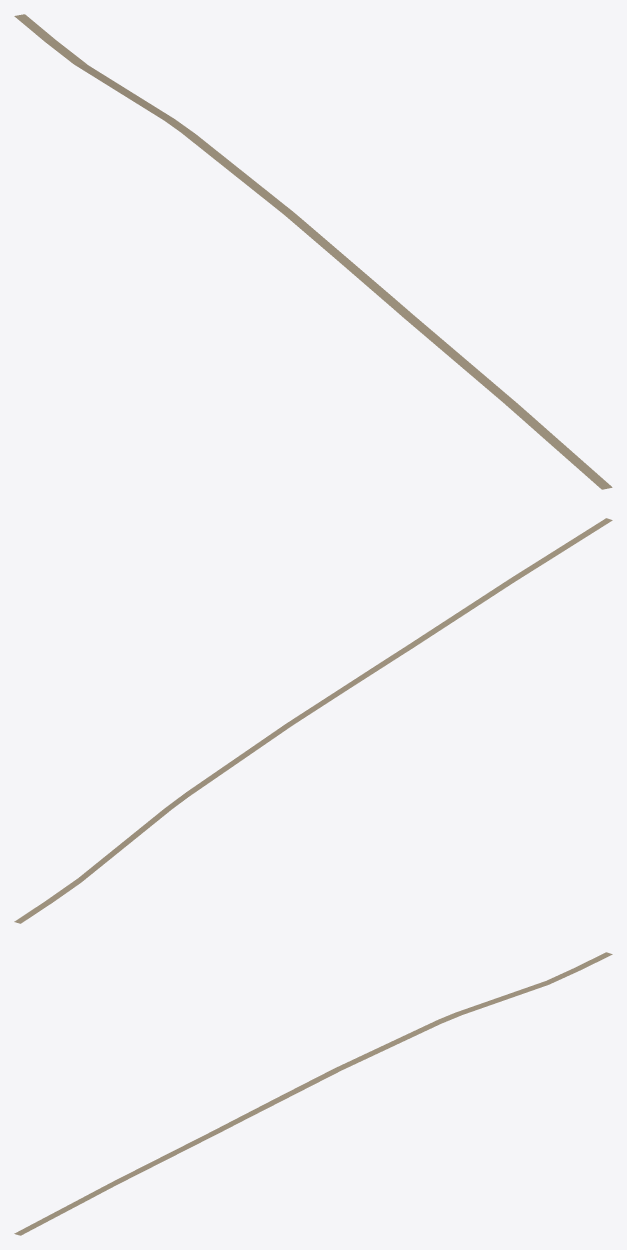
The model's file is farm_-3_9_track.glb.
3 views of the same model, one above another, from view 1: azimuth 30°, elevation 25°; view 2: azimuth 150°, elevation 25°; view 3: azimuth 330°, elevation 25° (orthographic). The views are drawn at different scales.
Parts seen in each view (by area): view 1: geometry_0; view 2: geometry_0; view 3: geometry_0.
Part boxes in pixels (x1,y1,x2,y2): geometry_0: (14, 14, 612, 489); geometry_0: (14, 518, 612, 923); geometry_0: (14, 952, 612, 1235).
Bounding box in the file's own units: 45.91 × 26.76 × 396.
